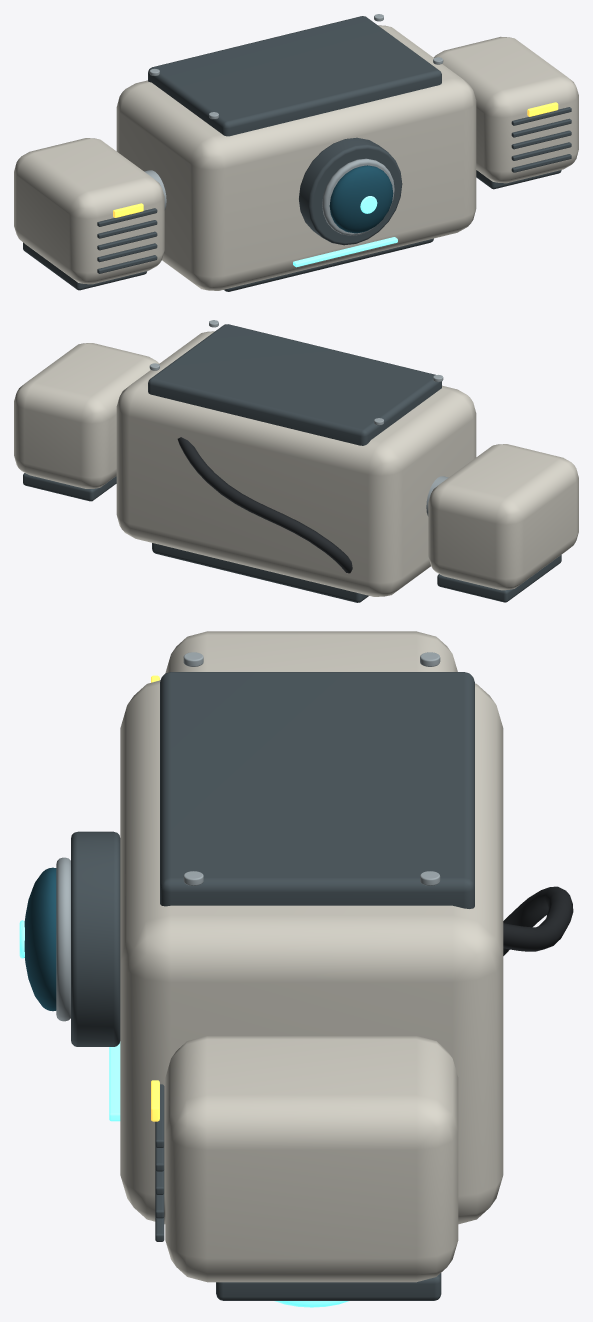
Rendered from utility_drone.glb.
3 renders of one model, top to bottom at view 1: azimuth 30°, elevation 25°; view 2: azimuth 150°, elevation 25°; view 3: azimuth 270°, elevation 25°, orthographic. The views are drawn at different scales.
Visible parts, largest first — view 1: UtilityDrone_mesh, OpticGimbal_mesh; view 2: UtilityDrone_mesh; view 3: UtilityDrone_mesh, OpticGimbal_mesh.
Boxes of the visible parts, box(x1,y1,x2,y2) form: UtilityDrone_mesh: box(14, 14, 578, 291); OpticGimbal_mesh: box(299, 137, 402, 245); UtilityDrone_mesh: box(14, 320, 578, 602); UtilityDrone_mesh: box(109, 631, 573, 1307); OpticGimbal_mesh: box(19, 831, 120, 1046).
Bounding box in the file's own units: 1.04 × 0.35 × 0.4917.
